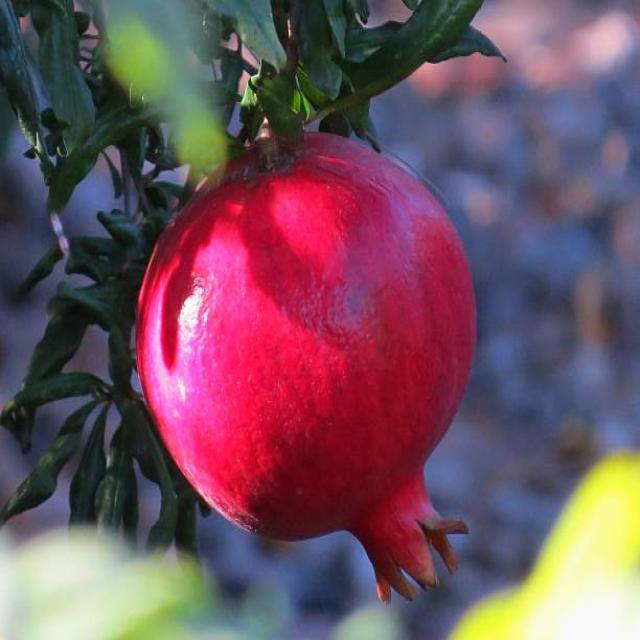Ripe: (121, 121, 484, 612)
